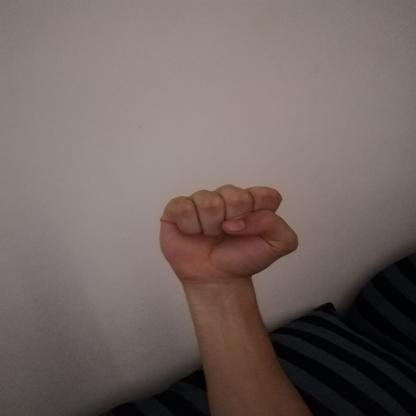SAD: (142, 170, 314, 297)
